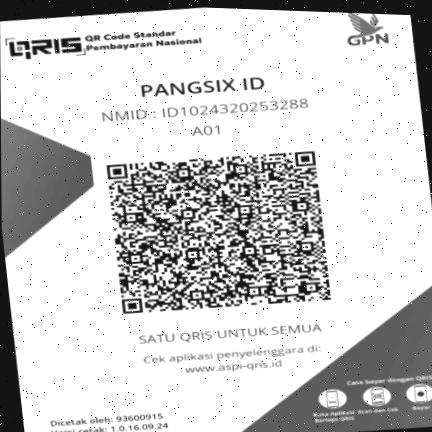Qris-Positioning: (0, 8, 432, 432)
